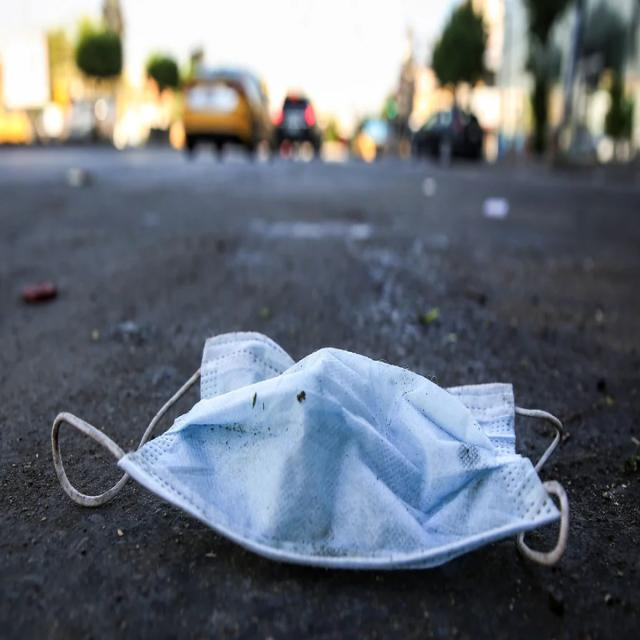face_mask: (19, 294, 614, 596)
